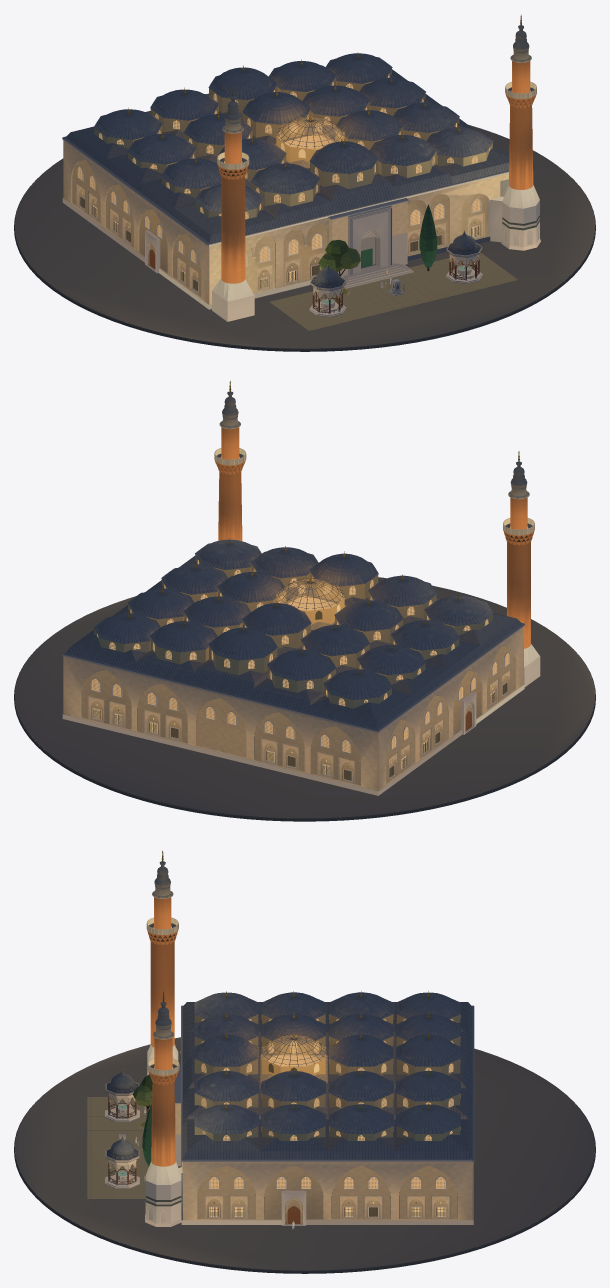
File: ulu-cami_v32_night_sunum.glb
3 views of the same model, one above another, from view 1: azimuth 30°, elevation 25°; view 2: azimuth 150°, elevation 25°; view 3: azimuth 270°, elevation 25° (orthographic).
Parts seen in each view (by area): view 1: Zemin_Kaide, Kubbeler_19, Cati, Cephe_Kuzey, Cephe_Dogu, Minare_1, Zemin_Avlu_Tas, Minare_2, Pencere_Girintileri, Tac_Kapi, Sadirvan_Kubbe, Giris_Cikintili_Blok (+10 smaller); view 2: Zemin_Kaide, Kubbeler_19, Cephe_Guney, Cati, Cephe_Dogu, Pencere_Girintileri, Minare_2, Minare_1, Mermer_Bant, Sadirvan_Kubbe, Kasnak_Pencereleri, Silme_Ust (+2 smaller); view 3: Zemin_Kaide, Kubbeler_19, Cephe_Bati, Cati, Minare_1, Zemin_Avlu_Tas, Minare_2, Pencere_Girintileri, Sadirvan_Kubbe, Kasnak_Pencereleri, Mermer_Bant, Avlu_Sadirvan_Bati (+5 smaller).
Part boxes in pixels (<box>): Zemin_Kaide: <box>14,124,595,351</box>; Kubbeler_19: <box>94,53,493,219</box>; Cati: <box>62,69,509,244</box>; Cephe_Kuzey: <box>208,173,508,304</box>; Cephe_Dogu: <box>64,141,208,304</box>; Minare_1: <box>488,14,540,250</box>; Zemin_Avlu_Tas: <box>269,252,517,331</box>; Minare_2: <box>212,85,254,321</box>; Pencere_Girintileri: <box>76,182,484,295</box>; Tac_Kapi: <box>342,206,413,288</box>; Sadirvan_Kubbe: <box>276,117,344,162</box>; Giris_Cikintili_Blok: <box>328,198,409,277</box>; Zemin_Kaide: <box>14,577,595,821</box>; Kubbeler_19: <box>94,539,493,708</box>; Cephe_Guney: <box>63,656,378,790</box>; Cati: <box>63,556,524,731</box>; Cephe_Dogu: <box>379,627,523,790</box>; Pencere_Girintileri: <box>87,669,511,783</box>; Minare_2: <box>503,451,540,686</box>; Minare_1: <box>214,381,246,541</box>; Mermer_Bant: <box>62,684,524,795</box>; Sadirvan_Kubbe: <box>276,578,344,624</box>; Kasnak_Pencereleri: <box>97,560,488,705</box>; Silme_Ust: <box>62,624,525,732</box>; Zemin_Kaide: <box>14,1037,595,1273</box>; Kubbeler_19: <box>194,992,460,1140</box>; Cephe_Bati: <box>183,1162,471,1223</box>; Cati: <box>181,1002,473,1160</box>; Minare_1: <box>145,991,182,1226</box>; Zemin_Avlu_Tas: <box>87,1097,150,1198</box>; Minare_2: <box>146,850,178,1075</box>; Pencere_Girintileri: <box>204,1195,450,1218</box>; Sadirvan_Kubbe: <box>261,1035,325,1075</box>; Kasnak_Pencereleri: <box>201,1014,460,1140</box>; Mermer_Bant: <box>181,1162,473,1224</box>; Avlu_Sadirvan_Bati: <box>105,1136,139,1188</box>.
Bounding box in the file's own units: 111 × 48.52 × 111.
Materials: 63 (17 with a texture image).
